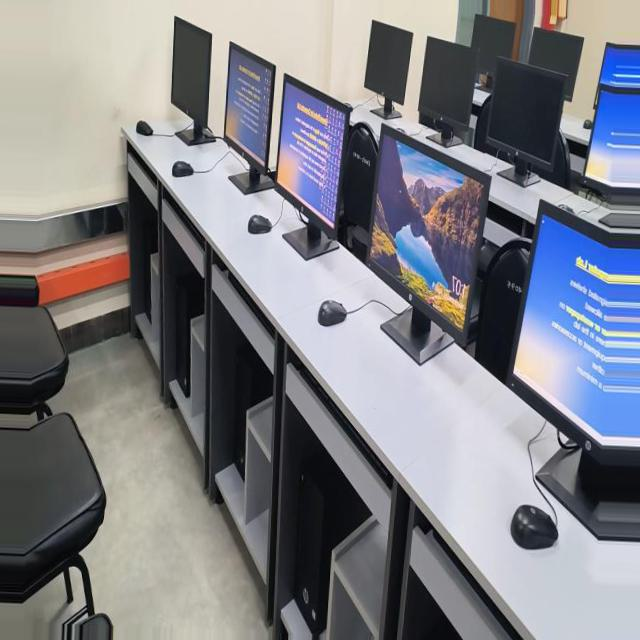Chair: (550, 425, 640, 630), (91, 239, 144, 376), (598, 317, 640, 434), (264, 119, 300, 228)
Cpu: (255, 449, 337, 639), (450, 276, 481, 404)
Fire Extinguisher: (58, 0, 87, 17)
Monitor: (0, 188, 109, 444), (136, 124, 266, 324), (296, 72, 376, 234), (380, 42, 434, 174), (155, 28, 219, 126), (452, 18, 495, 136), (229, 15, 280, 113), (38, 14, 99, 88), (115, 4, 164, 65), (0, 76, 31, 172), (0, 27, 19, 71)
Mouse: (46, 498, 99, 543), (290, 299, 322, 325), (377, 216, 404, 235), (467, 165, 491, 181), (514, 126, 533, 140)
